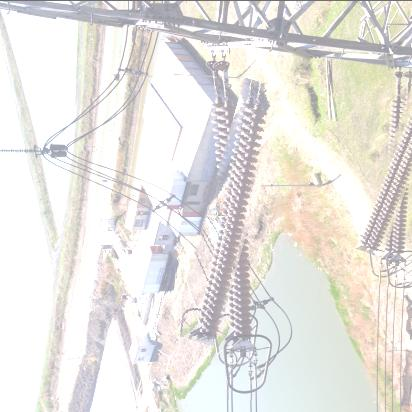insulator: (190, 79, 271, 347), (369, 86, 412, 258)
